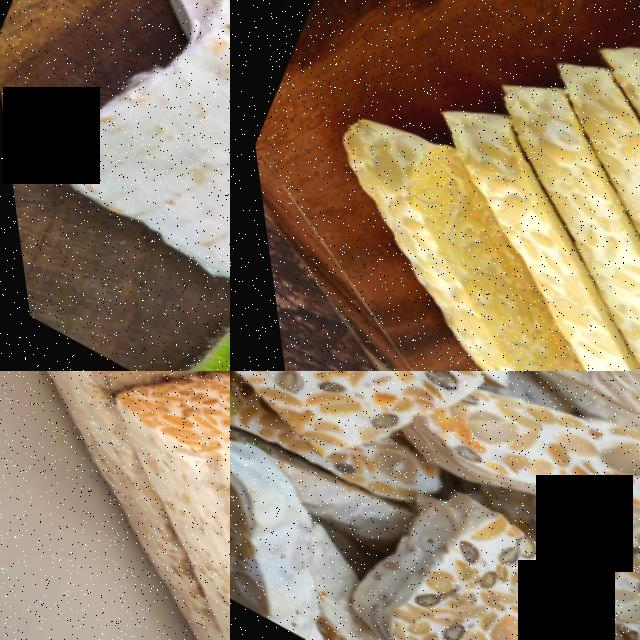tempeh: (241, 0, 640, 371), (0, 0, 230, 371), (314, 460, 585, 640), (419, 371, 640, 559), (53, 371, 230, 598), (230, 371, 510, 504), (230, 412, 337, 629), (72, 505, 230, 640), (500, 513, 640, 640), (0, 371, 230, 443)
